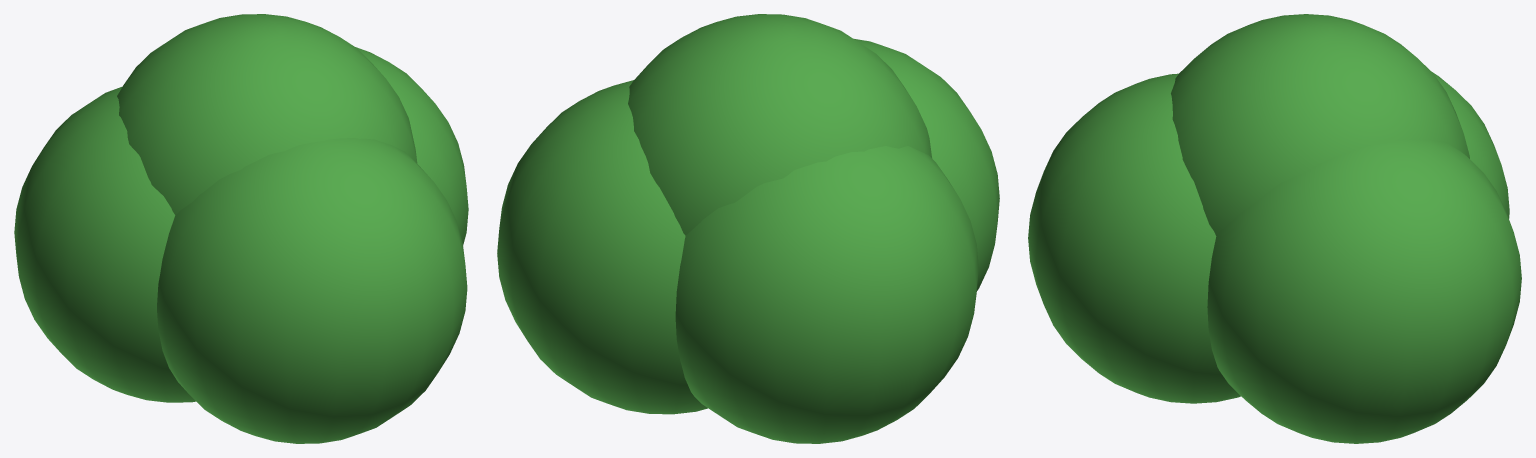
The model's file is vrij2_introlvl_bush.fbx.
3 views of the same model, side by side, from view 1: azimuth 30°, elevation 25°; view 2: azimuth 150°, elevation 25°; view 3: azimuth 270°, elevation 25° (orthographic). The views are drawn at different scales.
Parts seen in each view (by area): view 1: bosje; view 2: bosje; view 3: bosje.
Part boxes in pixels (<box>): bosje: <box>14,14,468,443</box>; bosje: <box>497,14,999,443</box>; bosje: <box>1028,14,1521,443</box>.
Bounding box in the file's own units: 0.00468 × 0.00382 × 0.00472.
